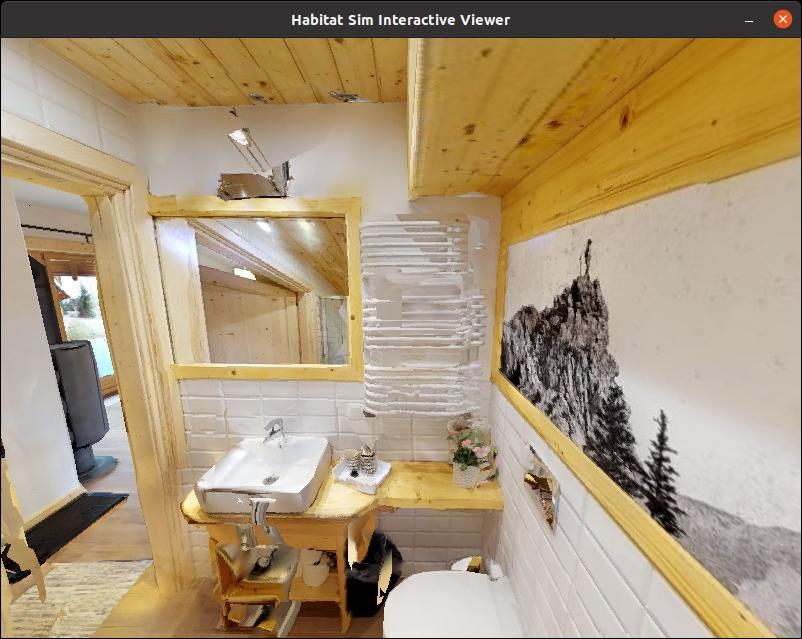door-frame: (0, 125, 187, 633)
sink: (191, 405, 349, 538)
